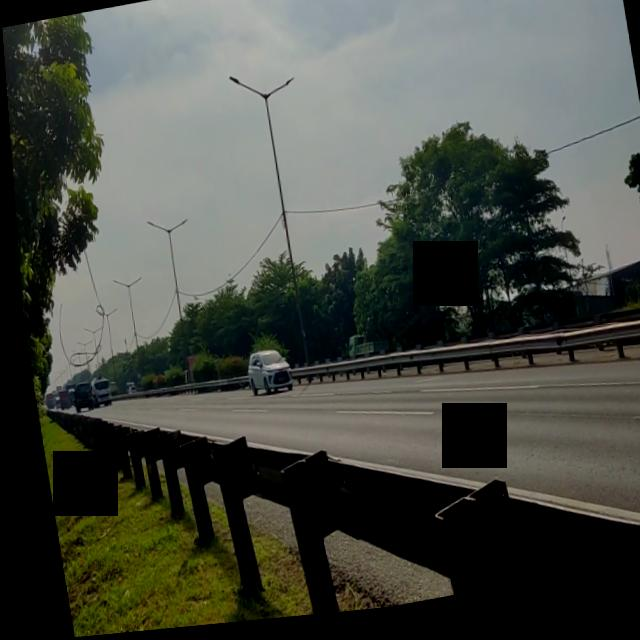Golongan I: (232, 349, 293, 410)
